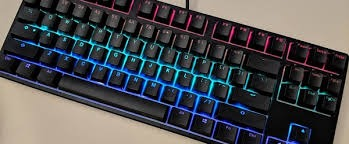keyboard: (0, 1, 349, 144)
